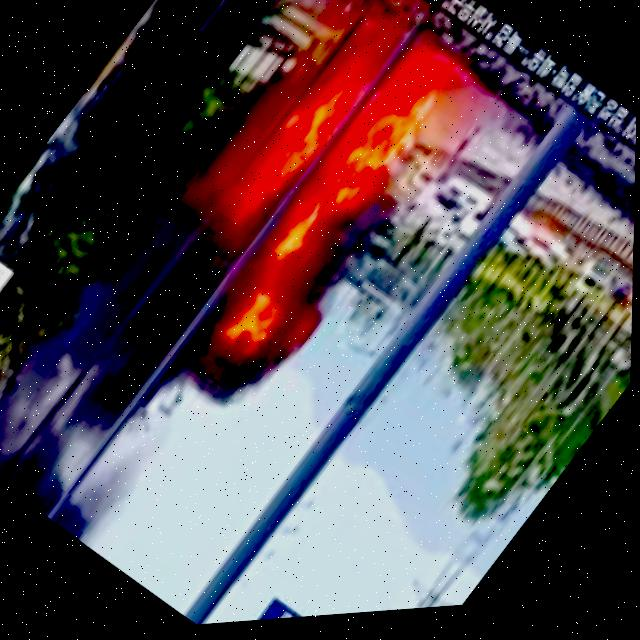Fire: (110, 0, 483, 411)
Smoke: (0, 151, 305, 550)
